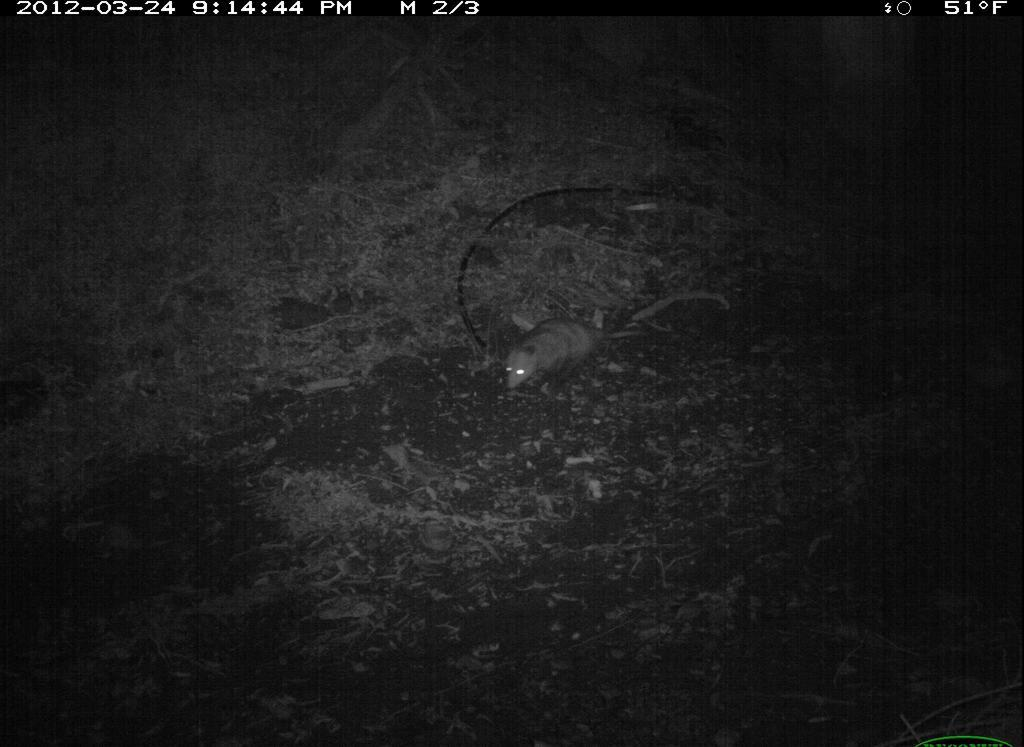opossum: (495, 299, 653, 411)
